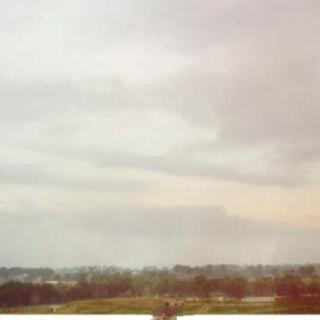Stratus: (0, 0, 320, 254)
